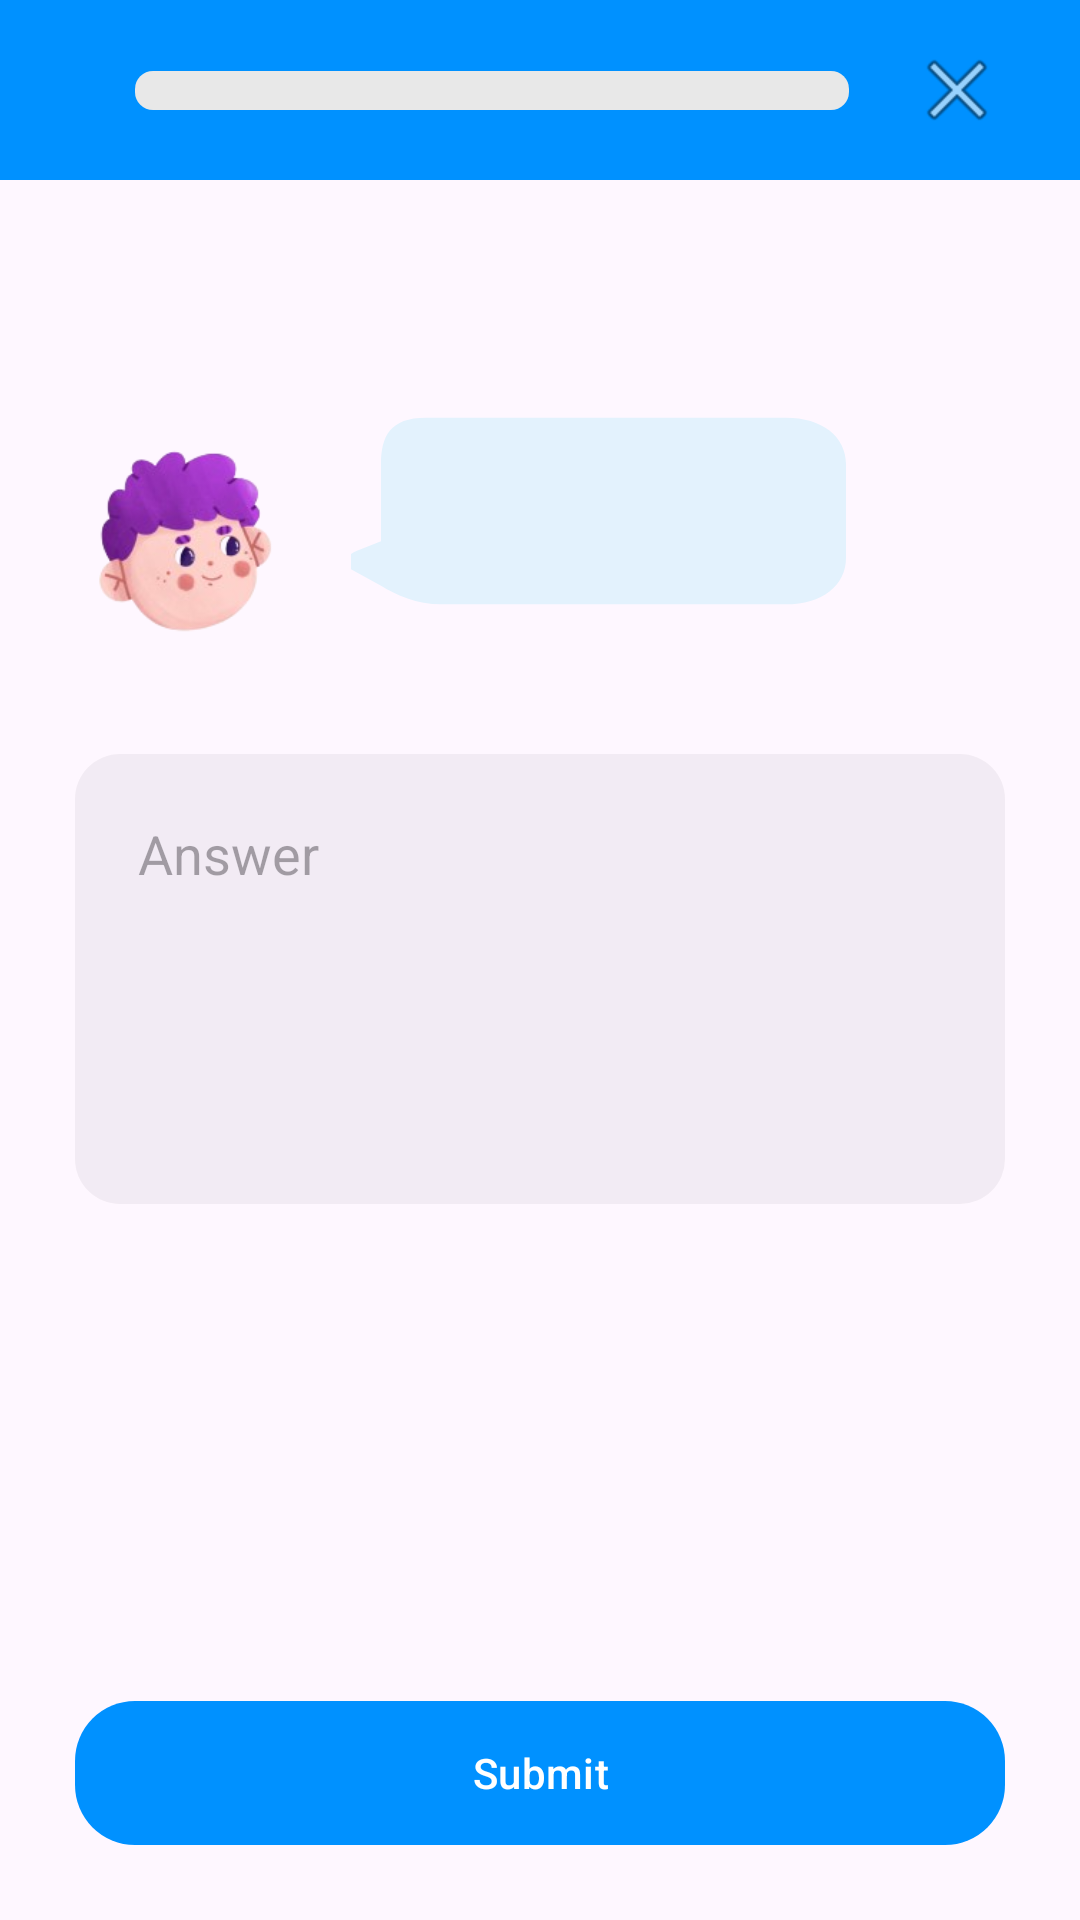

Locate icon controls on the screen. Image size 1080w x 1920h, boxes as box=[x1, y1, x2, y2].
close clear cancel: box=[927, 60, 987, 120]
